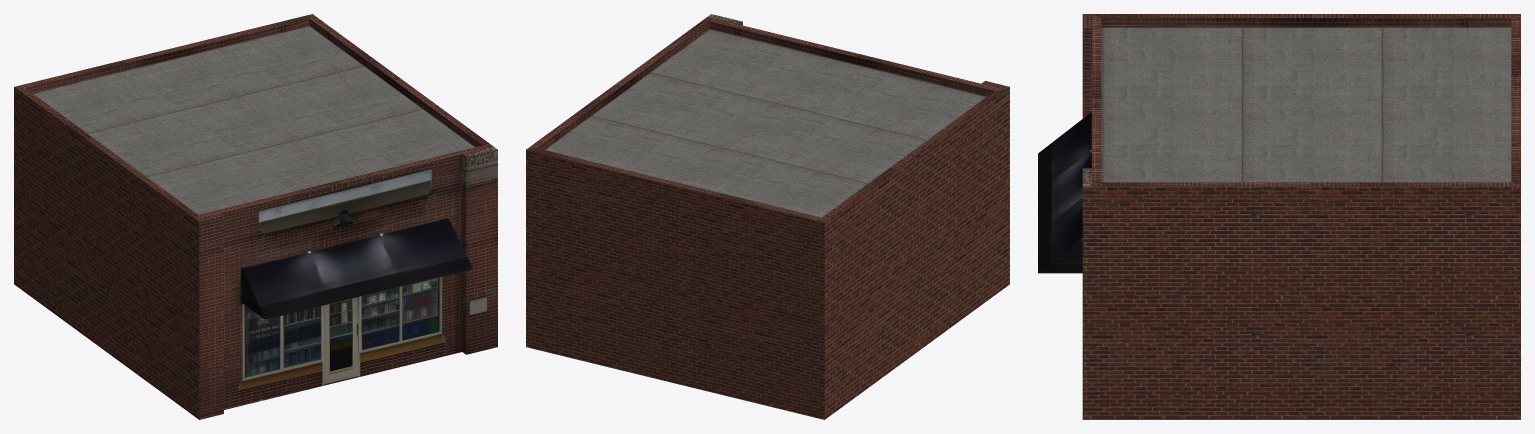
File: Building.fbx
3 renders of one model, left to right at view 1: azimuth 30°, elevation 25°; view 2: azimuth 150°, elevation 25°; view 3: azimuth 270°, elevation 25°, orthographic. The views are drawn at different scales.
Visible parts, largest first — view 1: Building; view 2: Building; view 3: Building.
Boxes of the visible parts, box(x1,y1,x2,y2) form: Building: box(14, 14, 497, 419); Building: box(526, 14, 1009, 419); Building: box(1038, 14, 1520, 419).
Bounding box in the file's own units: 816 × 516 × 966.
